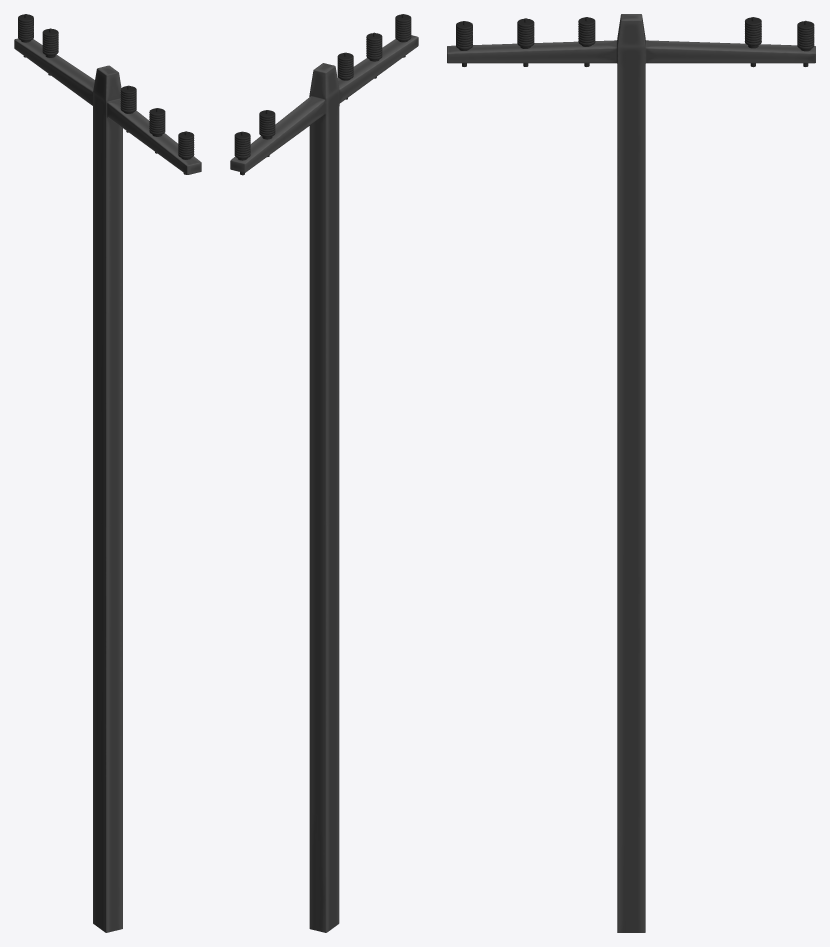
The model's file is light_pole01.fbx.
3 views of the same model, side by side, from view 1: azimuth 30°, elevation 25°; view 2: azimuth 150°, elevation 25°; view 3: azimuth 270°, elevation 25° (orthographic). The views are drawn at different scales.
Visible parts, largest first — view 1: Light_Pole01; view 2: Light_Pole01; view 3: Light_Pole01.
Boxes of the visible parts, bbox=[...] form: Light_Pole01: bbox=[14, 14, 201, 932]; Light_Pole01: bbox=[230, 14, 418, 932]; Light_Pole01: bbox=[447, 14, 815, 932].
Bounding box in the file's own units: 8.27 × 394 × 144.
